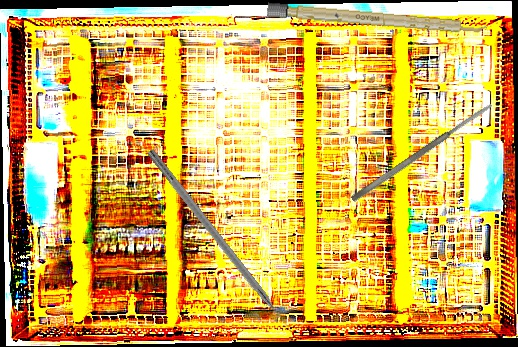Hook Surgical: (144, 148, 295, 337)
Scalpel Handle: (266, 2, 488, 36)
Spatula Surgical: (349, 101, 495, 204)
